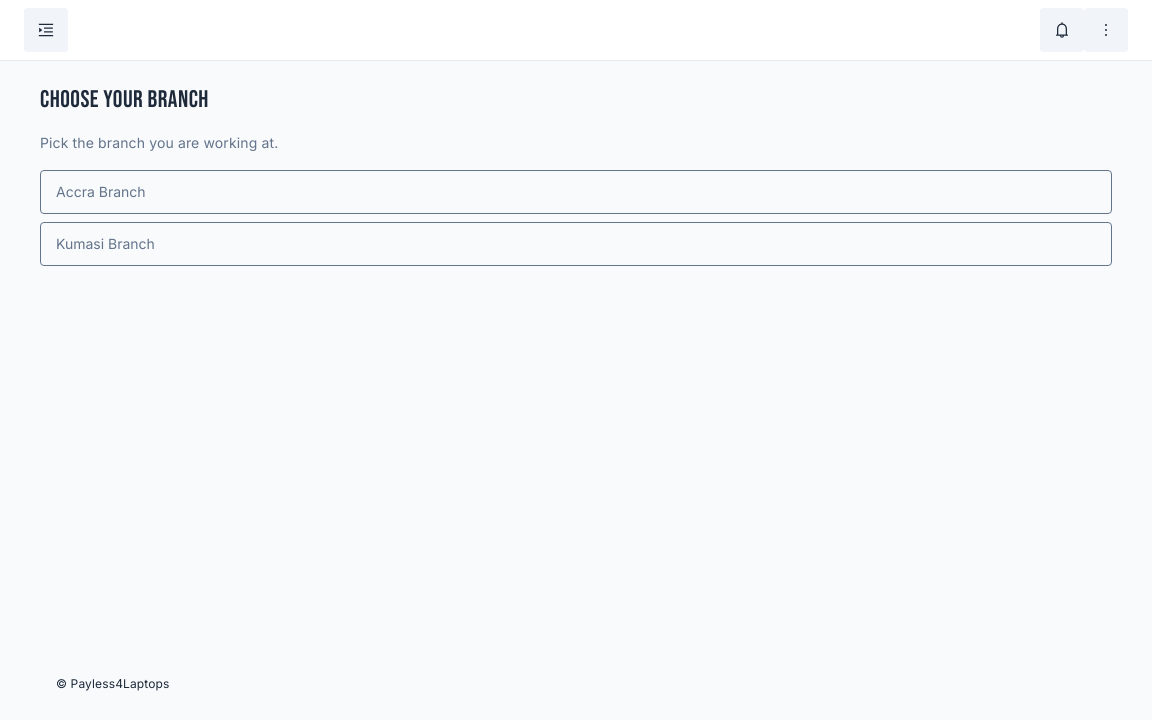
Test case: working branch: first pick › shows what the API rejects and stays on the picker
Expected: the heading "Choose your branch" is shown, [40,85,209,114]
Click the button "Kumasi Branch": (105, 243) [40,222,1112,266]
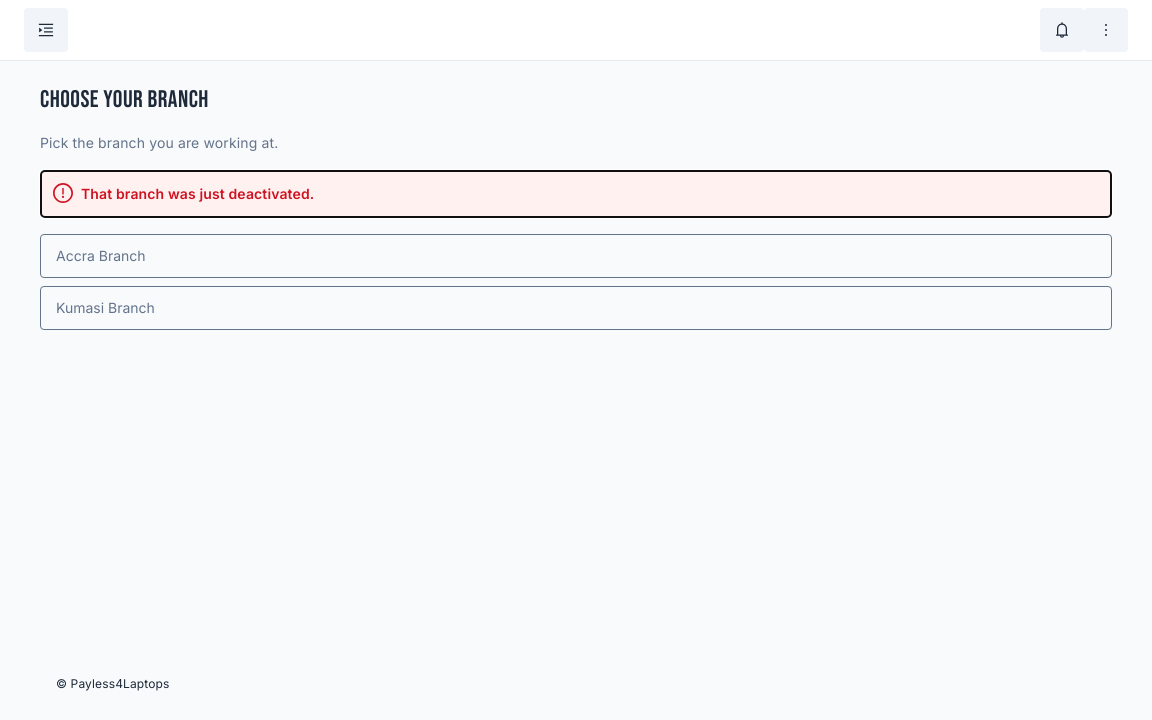
Expected: the heading "Choose your branch" is shown, [40,85,209,114]
Expected: the message reads "That branch was just deactivated.", [81,185,314,202]
